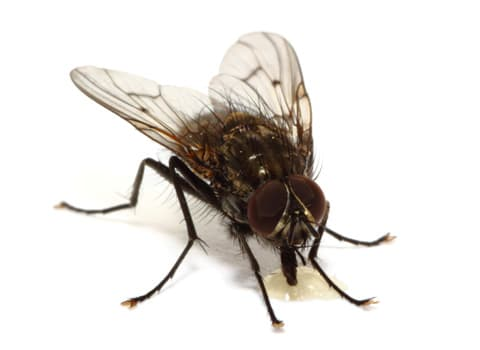fly: (49, 26, 401, 339)
